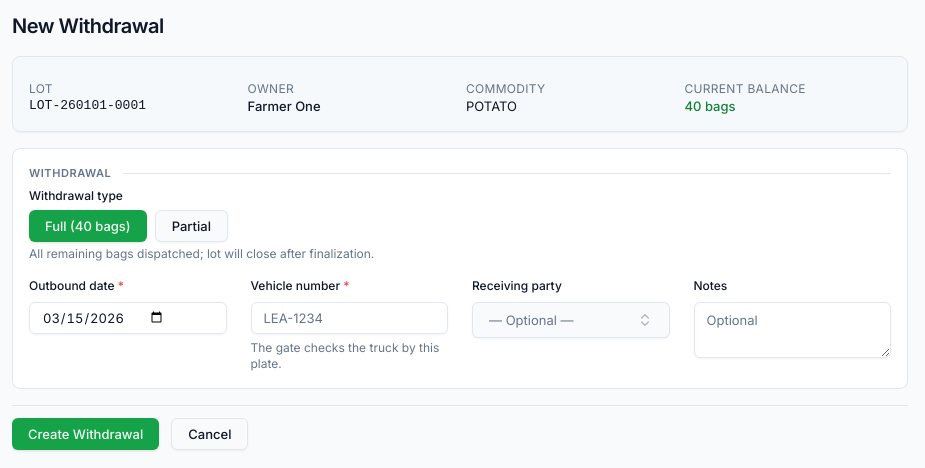
Test: WithdrawPage — outbound date › hints that a date after today needs a manager
The width and height of the screenshot is (925, 468).
Expected: the text "LOT-260101-0001" is shown, [29,98,146,113]
Type "2026-03-16" into the date field labelled "Outbound date *".
click(128, 318); type("2026-03-16")  # box [29,302,226,334]
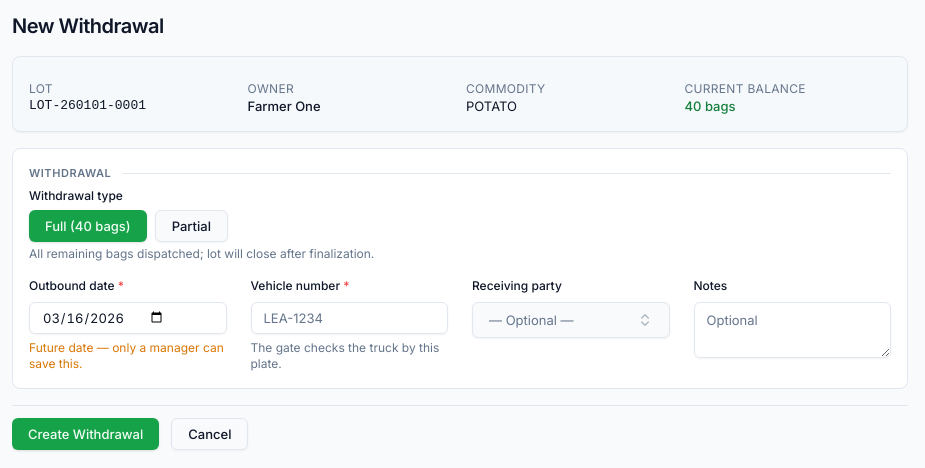
Expected: the text "Future date — only a manager can save this." is shown, [29,340,226,372]
Type "2026-03-15" into the date field labelled "Outbound date *".
click(128, 318); type("2026-03-15")  # box [29,302,226,334]
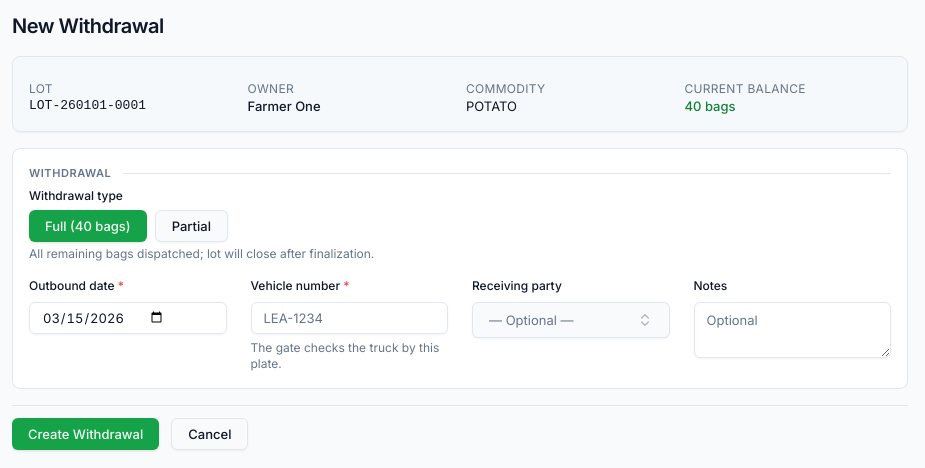
Expected: the text "Future date" is gone
